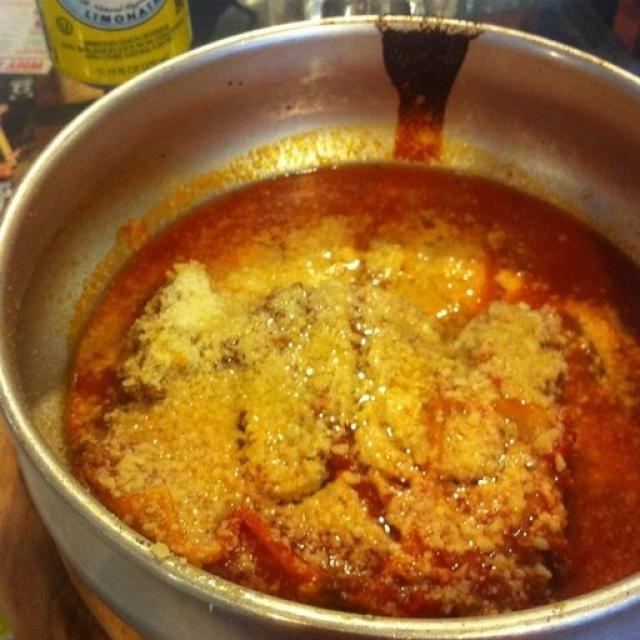Lasagna: (69, 218, 621, 572)
